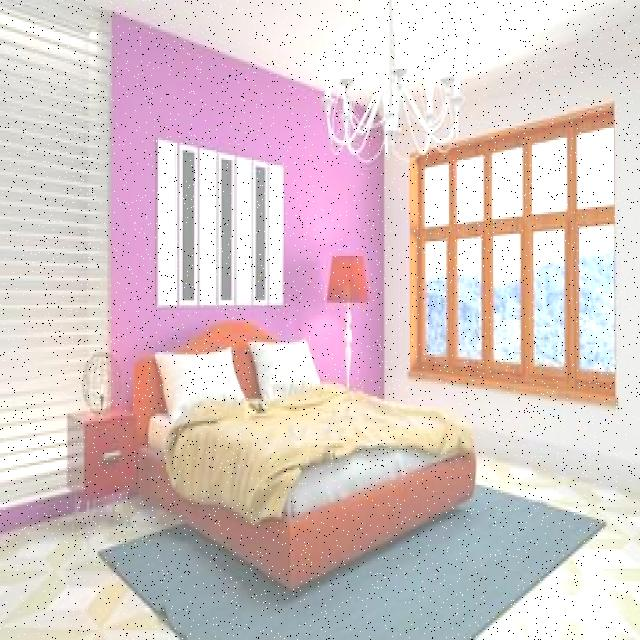bed: (126, 340, 484, 553)
